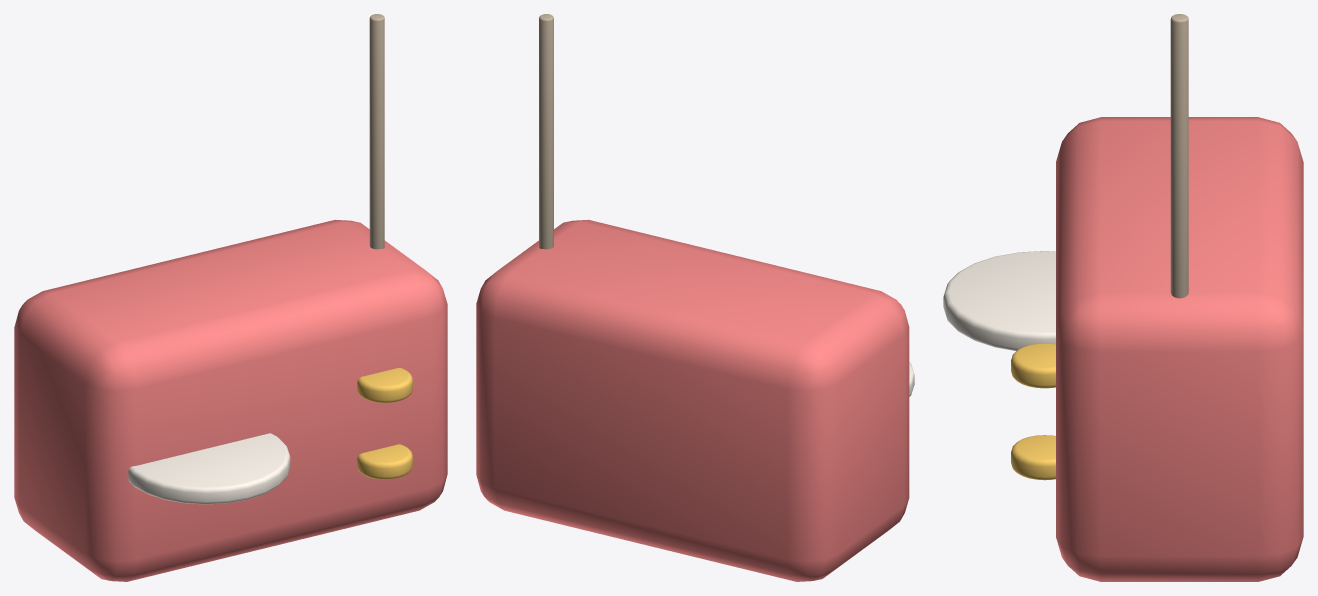
File: radio.glb
3 views of the same model, side by side, from view 1: azimuth 30°, elevation 25°; view 2: azimuth 150°, elevation 25°; view 3: azimuth 270°, elevation 25° (orthographic). The views are drawn at different scales.
Parts seen in each view (by area): view 1: radio; view 2: radio; view 3: radio.
Part boxes in pixels (bbox=[...]): radio: bbox=[14, 14, 447, 581]; radio: bbox=[476, 14, 914, 581]; radio: bbox=[943, 14, 1303, 581].
Bounding box in the file's own units: 0.44 × 0.55 × 0.32.
